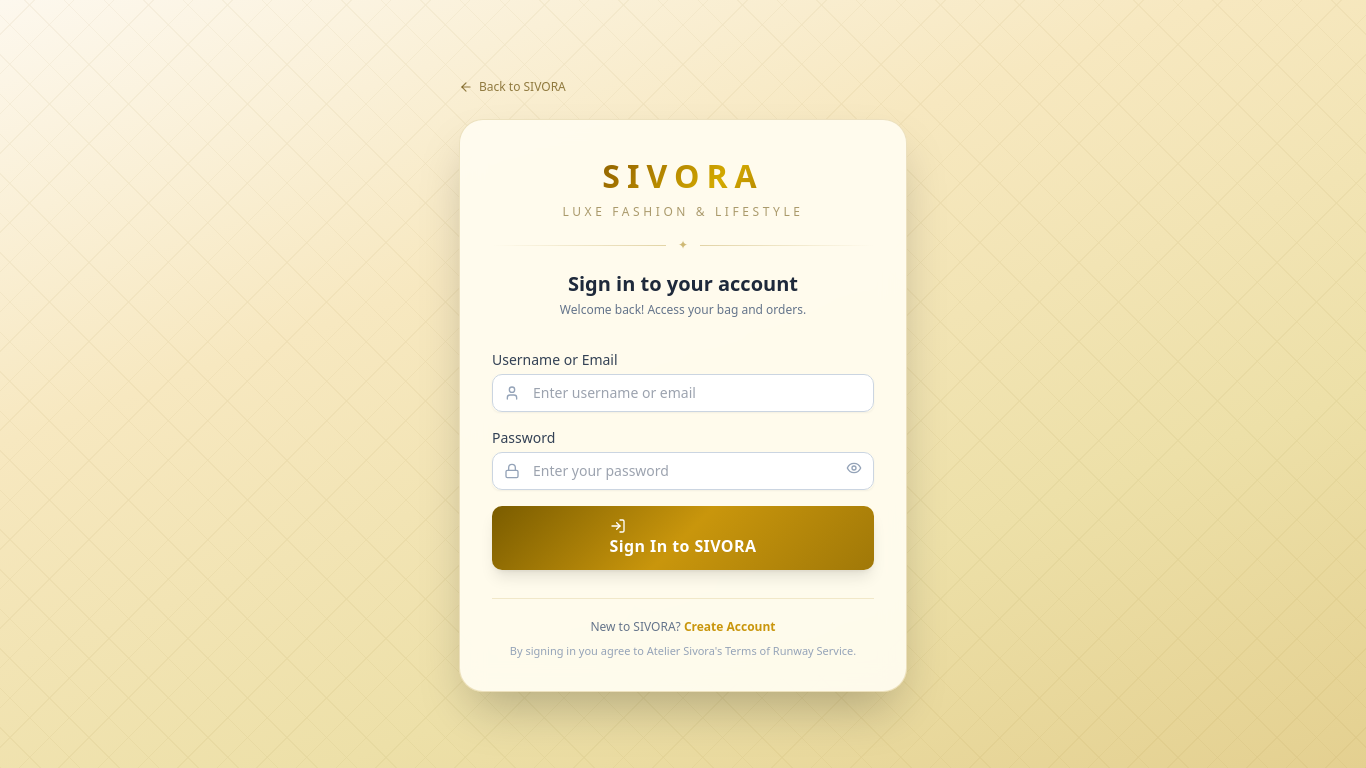
Scenario: LoginPage & Form Validation › displays server error alert when incorrect credentials are submitted
Type "wronguser" into the field labelled "Username or Email" at {"x": 683, "y": 393}, box [492,374,874,412]
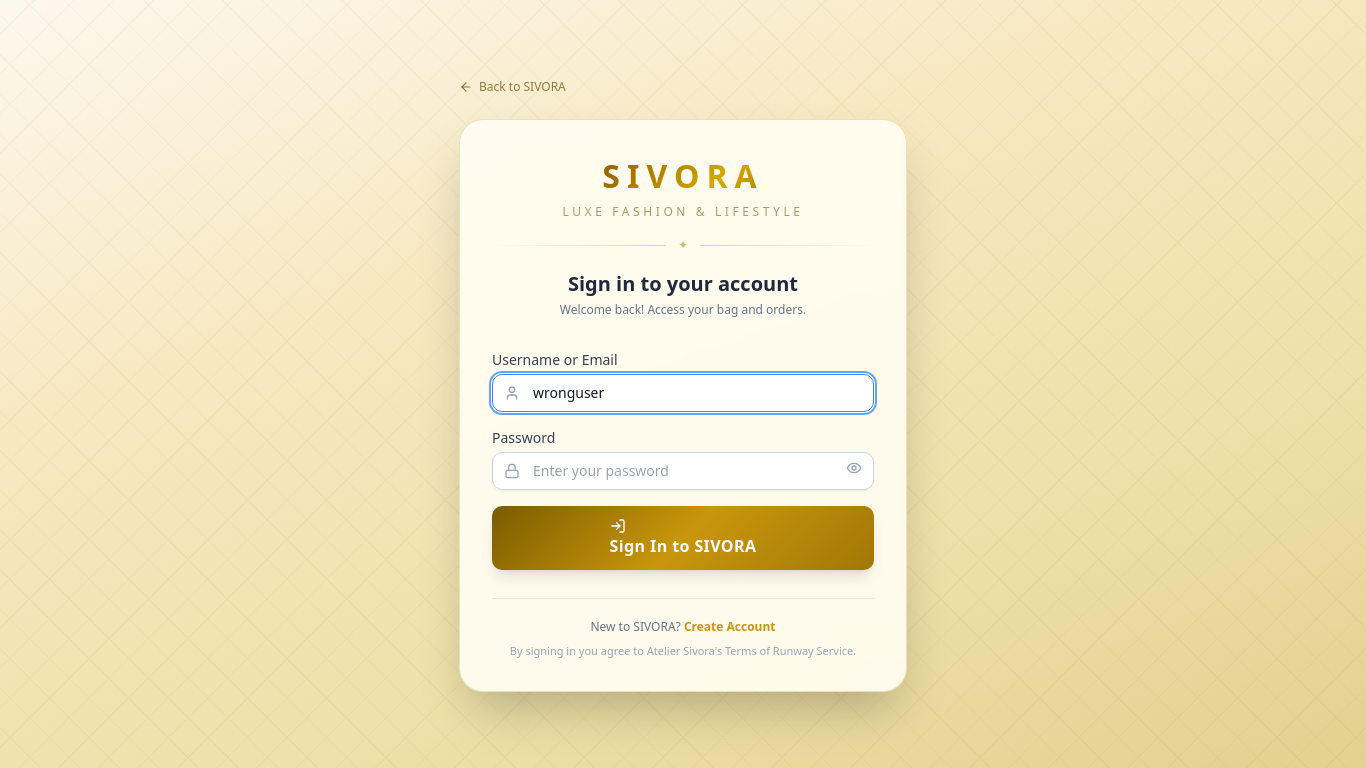
Type "wrongpassword123" into the password field labelled "Password" at {"x": 683, "y": 471}, box [492,452,874,490]
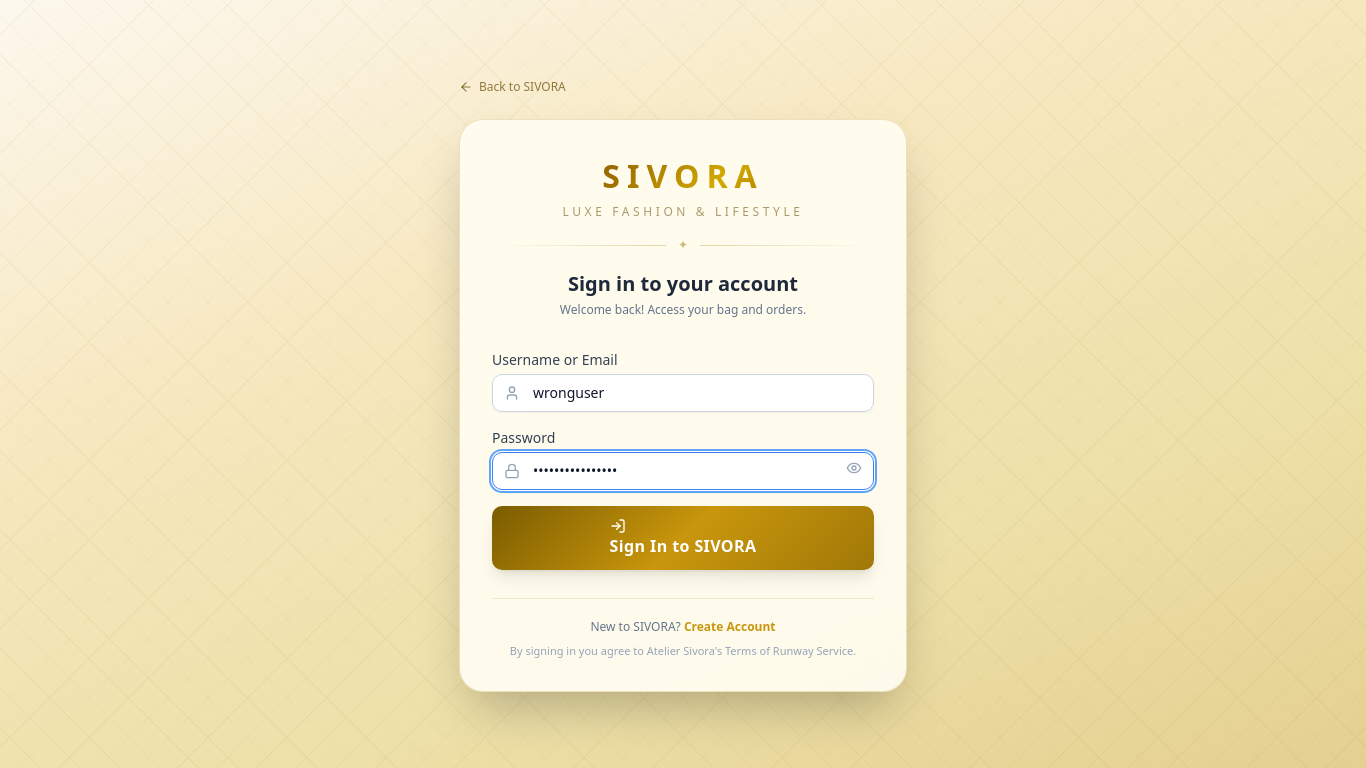
Click the button "Sign In to SIVORA" at {"x": 683, "y": 538}, box [492,506,874,570]
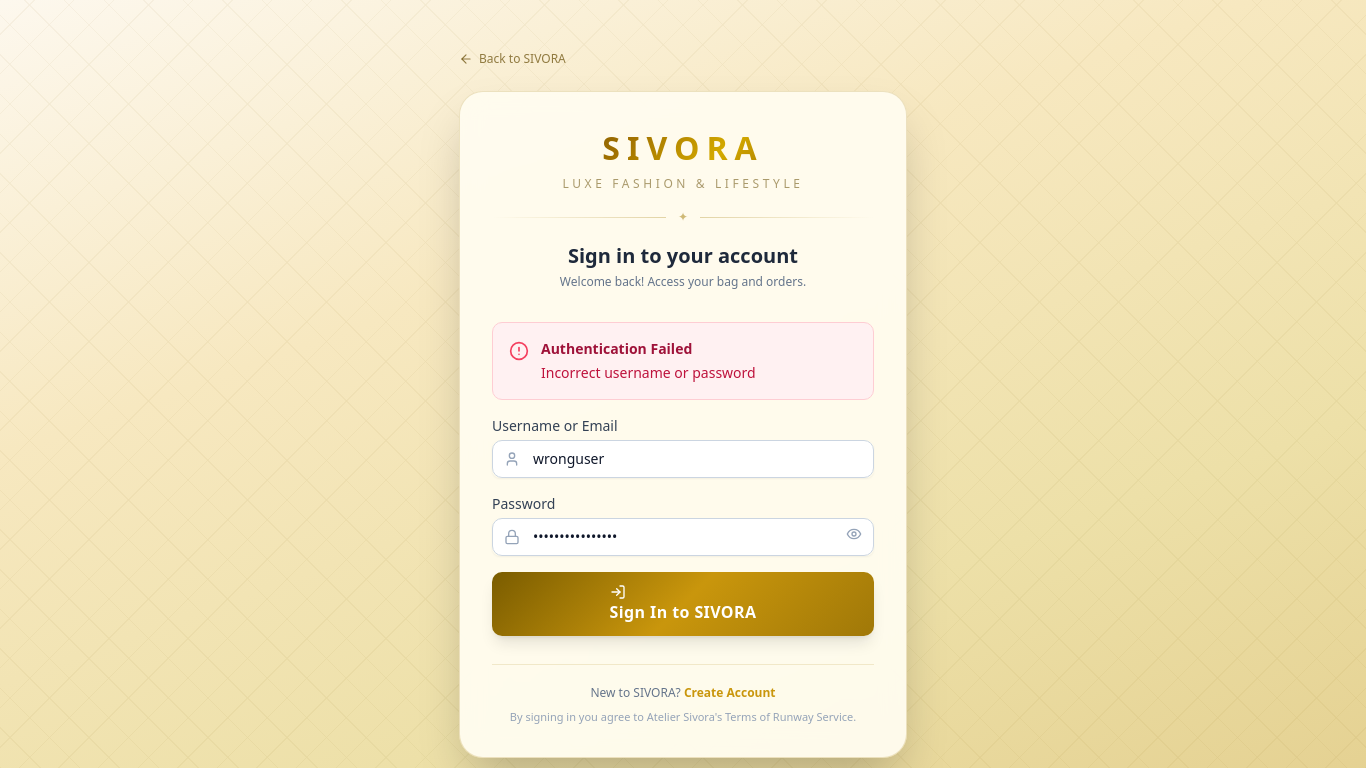
Check: the message "Authentication Failed Incorrect username or password" is shown, box [492,322,874,400]
Check: the text "Incorrect username or password" is shown, box [541,363,756,382]
